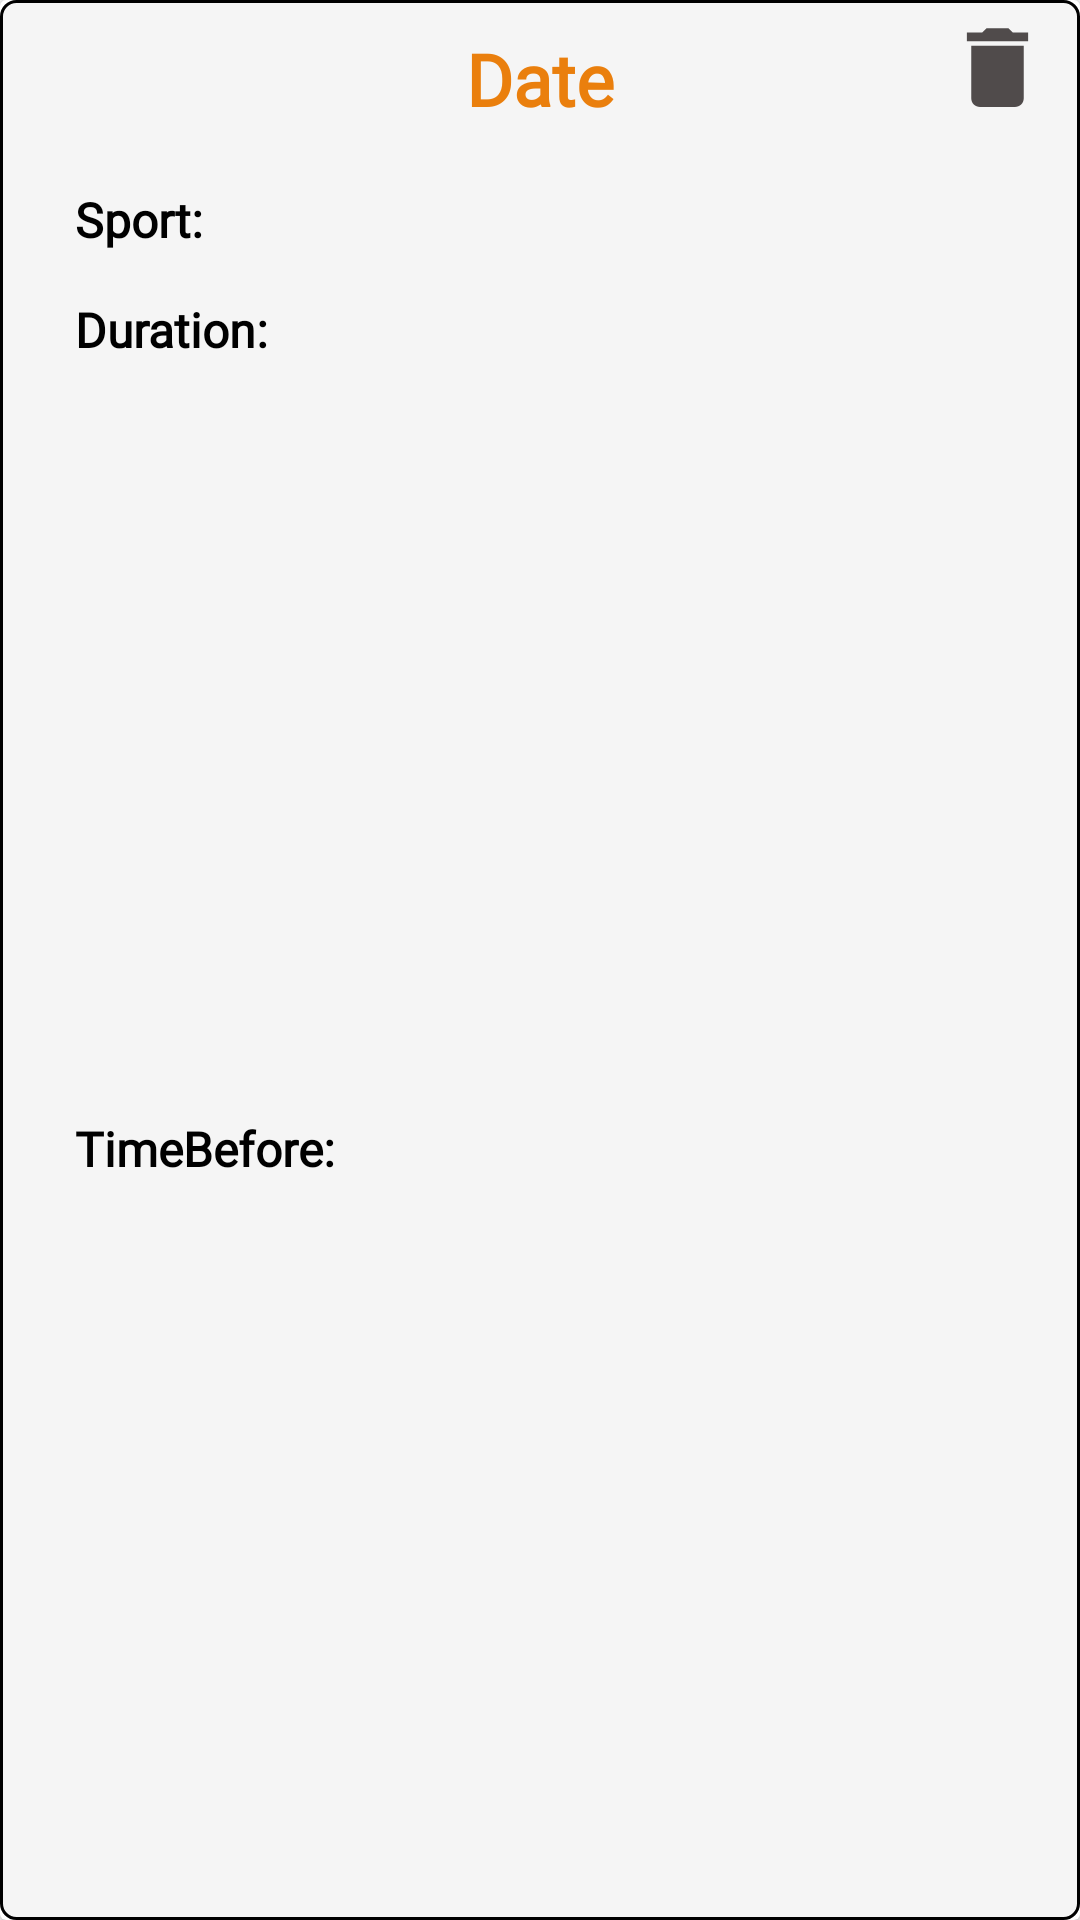

Where icons sit on this 1080x1920 app screen, as (x1=x1, y1=y1, x2=x2, y2=y2):
delete: (x1=967, y1=28, x2=1028, y2=107)
